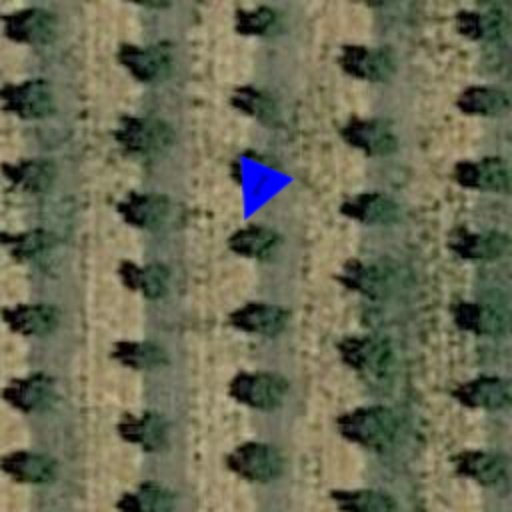triangle: (216, 154, 296, 234)
